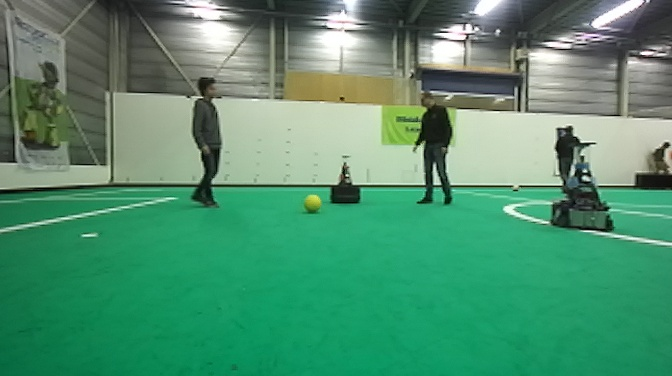ball: (304, 193, 322, 213), (509, 182, 521, 193)
human: (186, 75, 227, 210), (409, 90, 454, 205), (547, 126, 575, 193), (629, 138, 659, 187)
robot: (549, 140, 616, 233), (329, 152, 362, 206)
